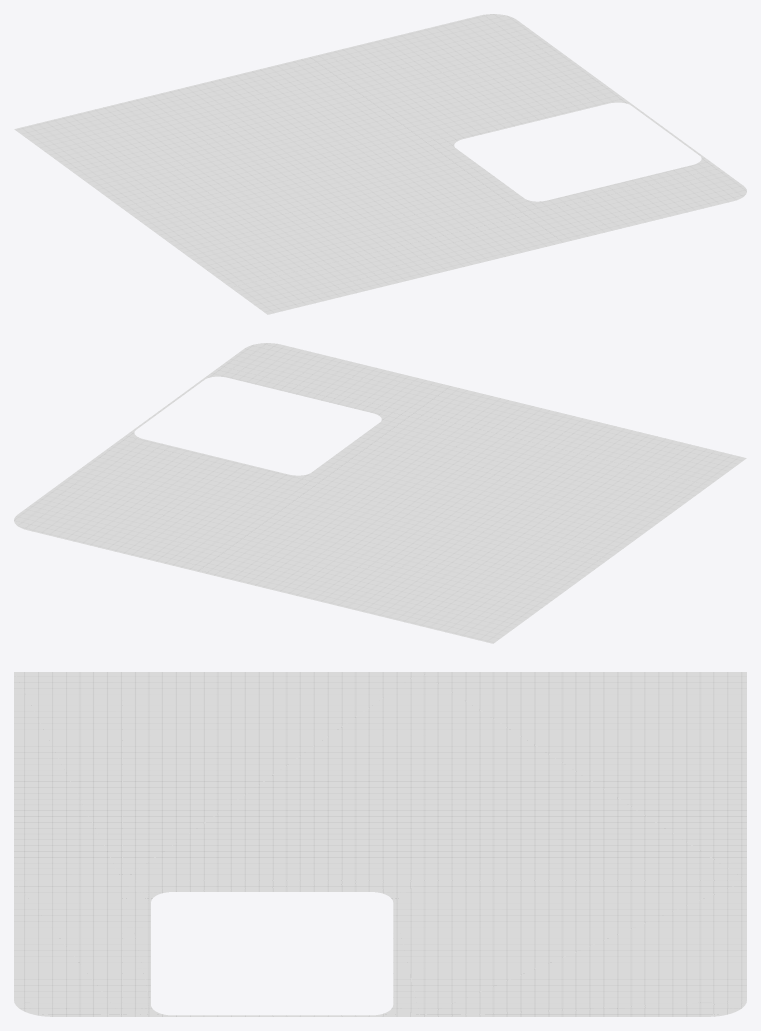
Rendered from FloatingAptIntFloors2_Mesh.fbx.
3 renders of one model, top to bottom at view 1: azimuth 30°, elevation 25°; view 2: azimuth 150°, elevation 25°; view 3: azimuth 270°, elevation 25°, orthographic. The views are drawn at different scales.
Visible parts, largest first — view 1: FloatingAptIntFloors2_Mesh; view 2: FloatingAptIntFloors2_Mesh; view 3: FloatingAptIntFloors2_Mesh.
Part boxes in pixels (<box>): FloatingAptIntFloors2_Mesh: <box>14,14,746,314</box>; FloatingAptIntFloors2_Mesh: <box>14,343,746,643</box>; FloatingAptIntFloors2_Mesh: <box>14,672,746,1016</box>.
Size of the model in its own units: 857 by 0.0374 by 770.
